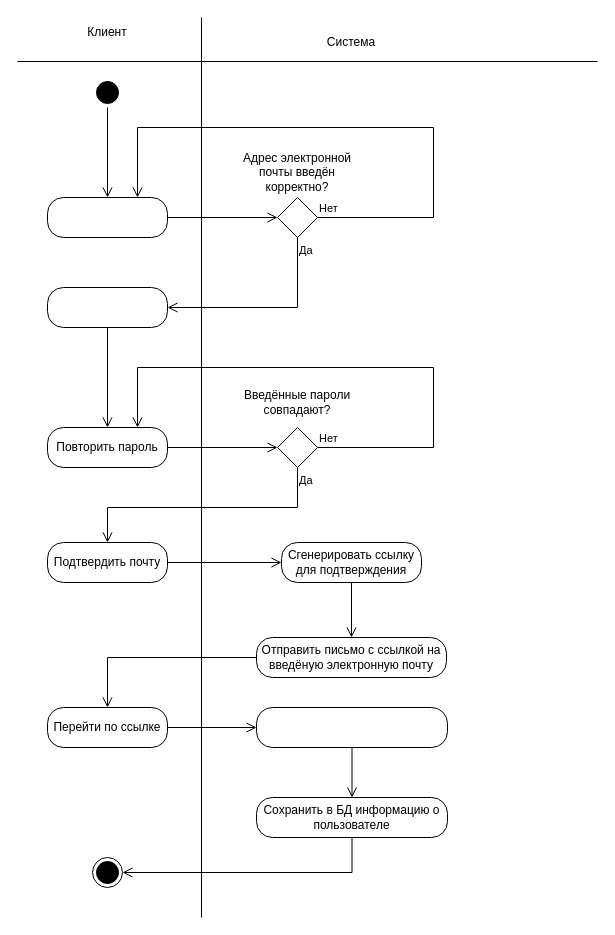
The diagram is 615 pixels wide and 935 high, and some of its shapes have lost their labels. Each missing label, with the centre of its shape:
"Ввести адрес электронной почты" belongs at point (107, 217).
"Ввести пароль" belongs at point (107, 307).
"Шифрование пароля RSA алгоритмом" belongs at point (352, 727).
